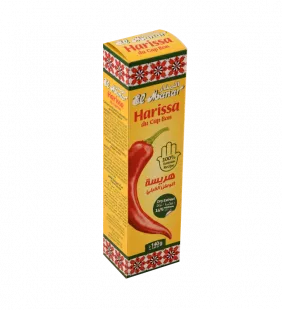EL MANAR: (91, 19, 197, 285)
